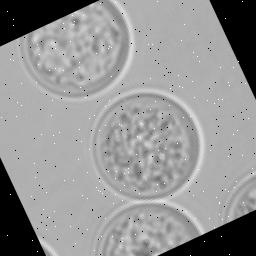picoshell: (92, 89, 206, 203), (19, 0, 136, 102), (95, 203, 206, 256), (222, 172, 256, 225), (40, 237, 60, 256)
